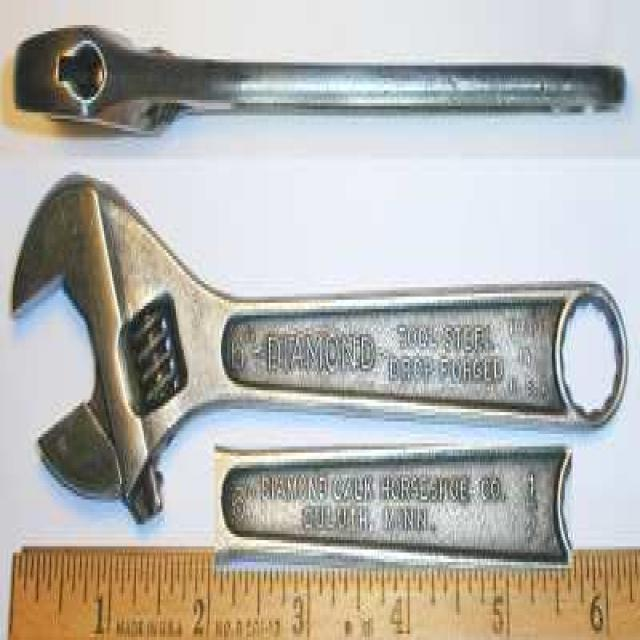wrench: (6, 172, 627, 523), (9, 19, 631, 141)
